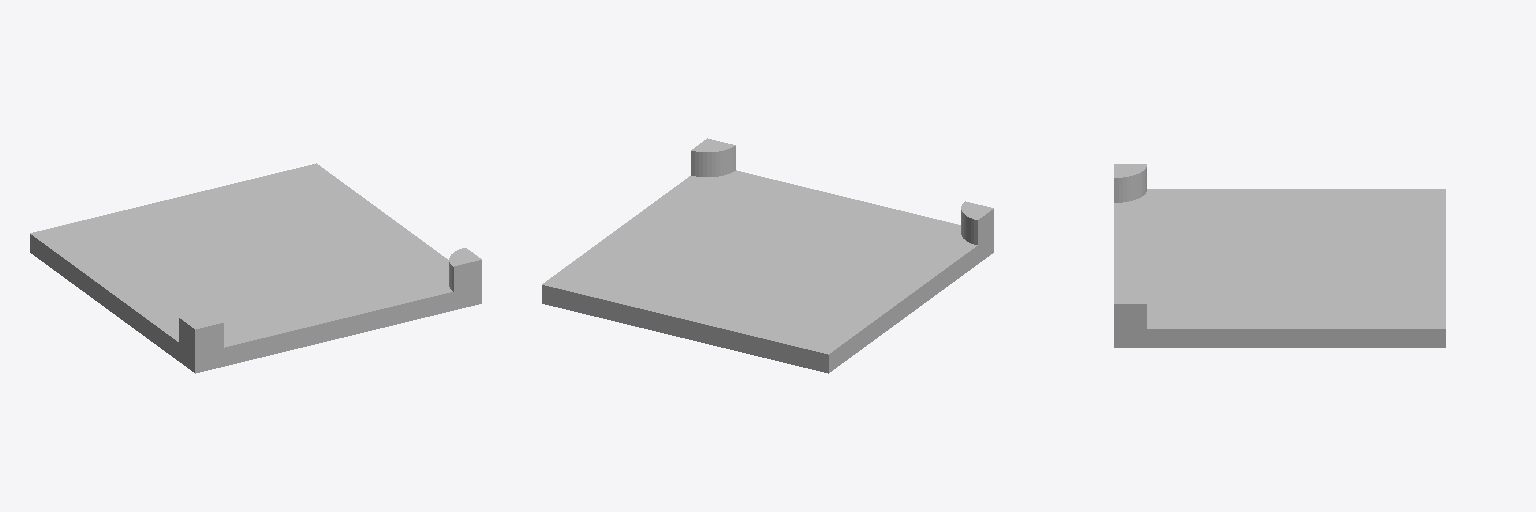
The model's file is Walls_to_open_01.obj.
3 views of the same model, side by side, from view 1: azimuth 30°, elevation 25°; view 2: azimuth 150°, elevation 25°; view 3: azimuth 270°, elevation 25° (orthographic).
Visible parts, largest first — view 1: Mesh1 Walls_to_open Model; view 2: Mesh1 Walls_to_open Model; view 3: Mesh1 Walls_to_open Model.
Part boxes in pixels (x1,y1,x2,y2): Mesh1 Walls_to_open Model: (30,163,481,373); Mesh1 Walls_to_open Model: (542,138,993,373); Mesh1 Walls_to_open Model: (1114,164,1445,347).
Bounding box in the file's own units: 3 × 0.44 × 3.